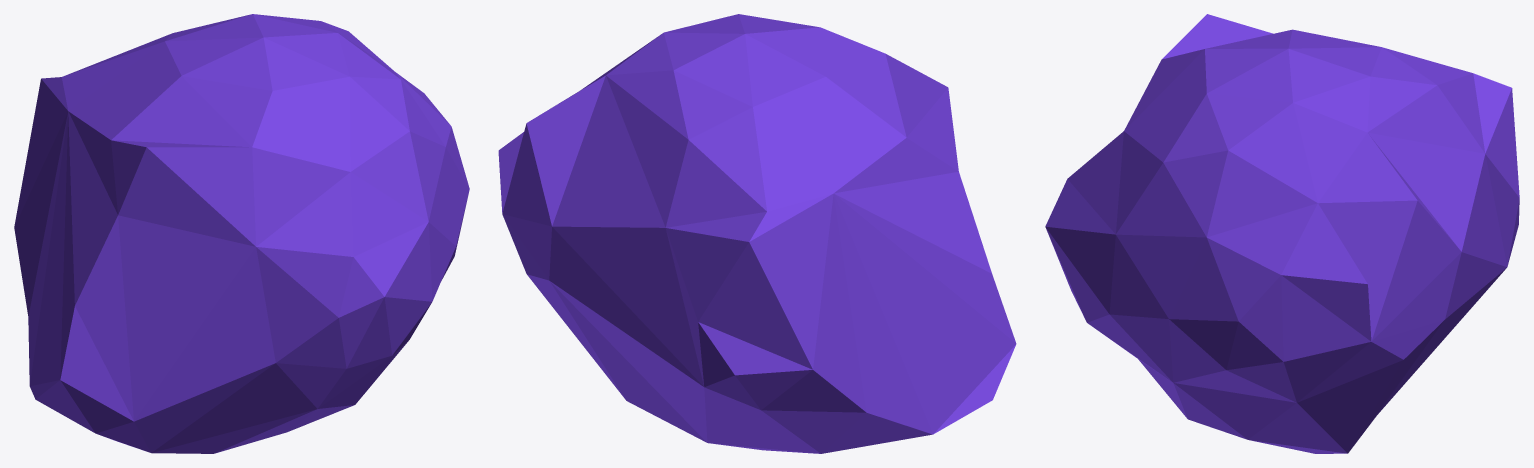
File: Model_365_RH__Medial_tuberal_nucleus_(MTu).obj
3 views of the same model, side by side, from view 1: azimuth 30°, elevation 25°; view 2: azimuth 150°, elevation 25°; view 3: azimuth 270°, elevation 25° (orthographic). The views are drawn at different scales.
Size of the model in its own units: 0.4157 by 0.3557 by 0.3855.
